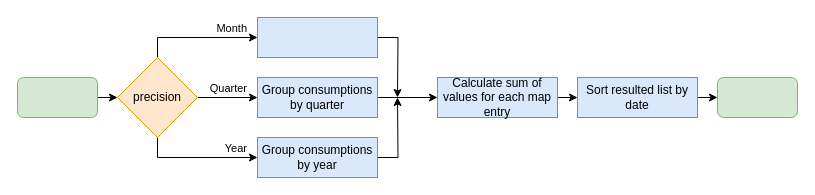
This 815x195 diagram has some shape labels left out. The centre of each missing label's shape, as x and y in pixels:
"End" belongs at [757,97].
"Group consumptions by month" belongs at [317,37].
"Start" belongs at [57,97].
